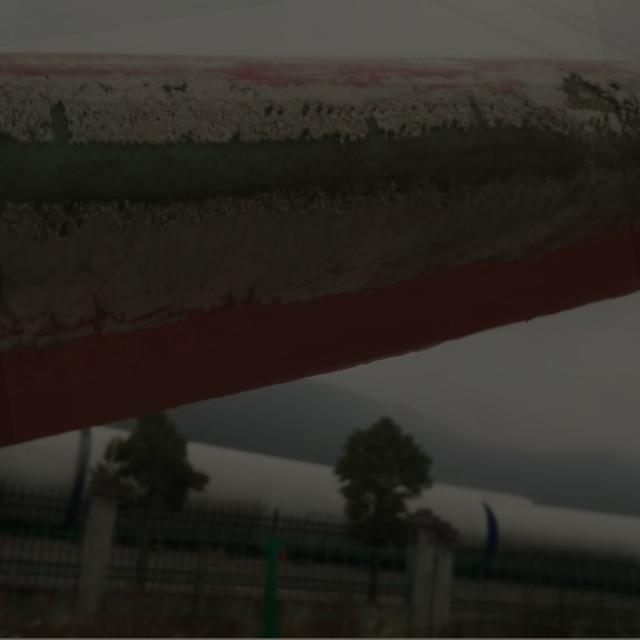corrosion: (6, 78, 636, 258)
